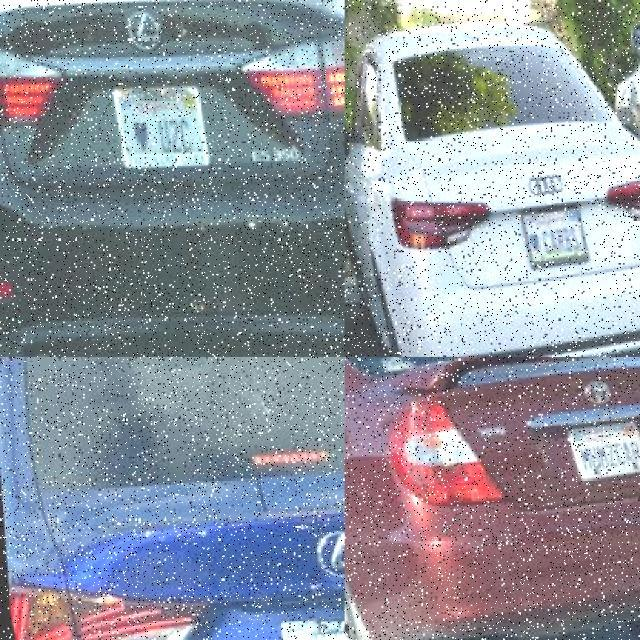LicensePlate: (106, 76, 206, 178), (560, 417, 639, 479), (517, 198, 586, 264)
